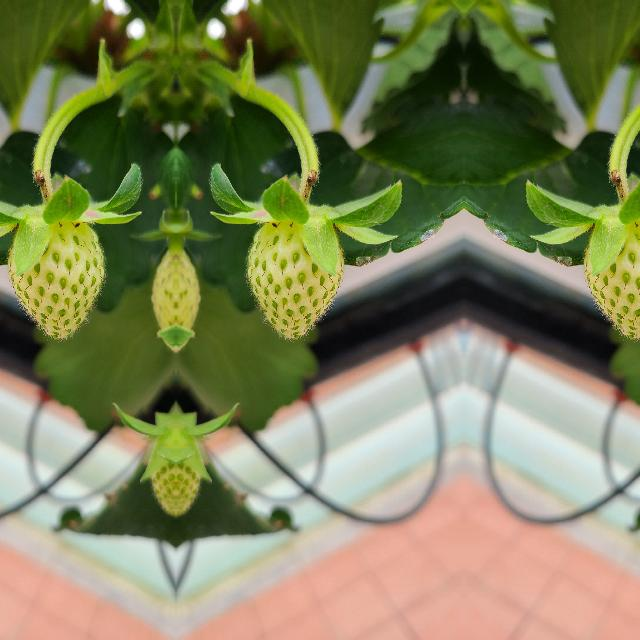Health_25: (246, 222, 342, 338), (8, 222, 104, 338), (584, 222, 640, 338)
